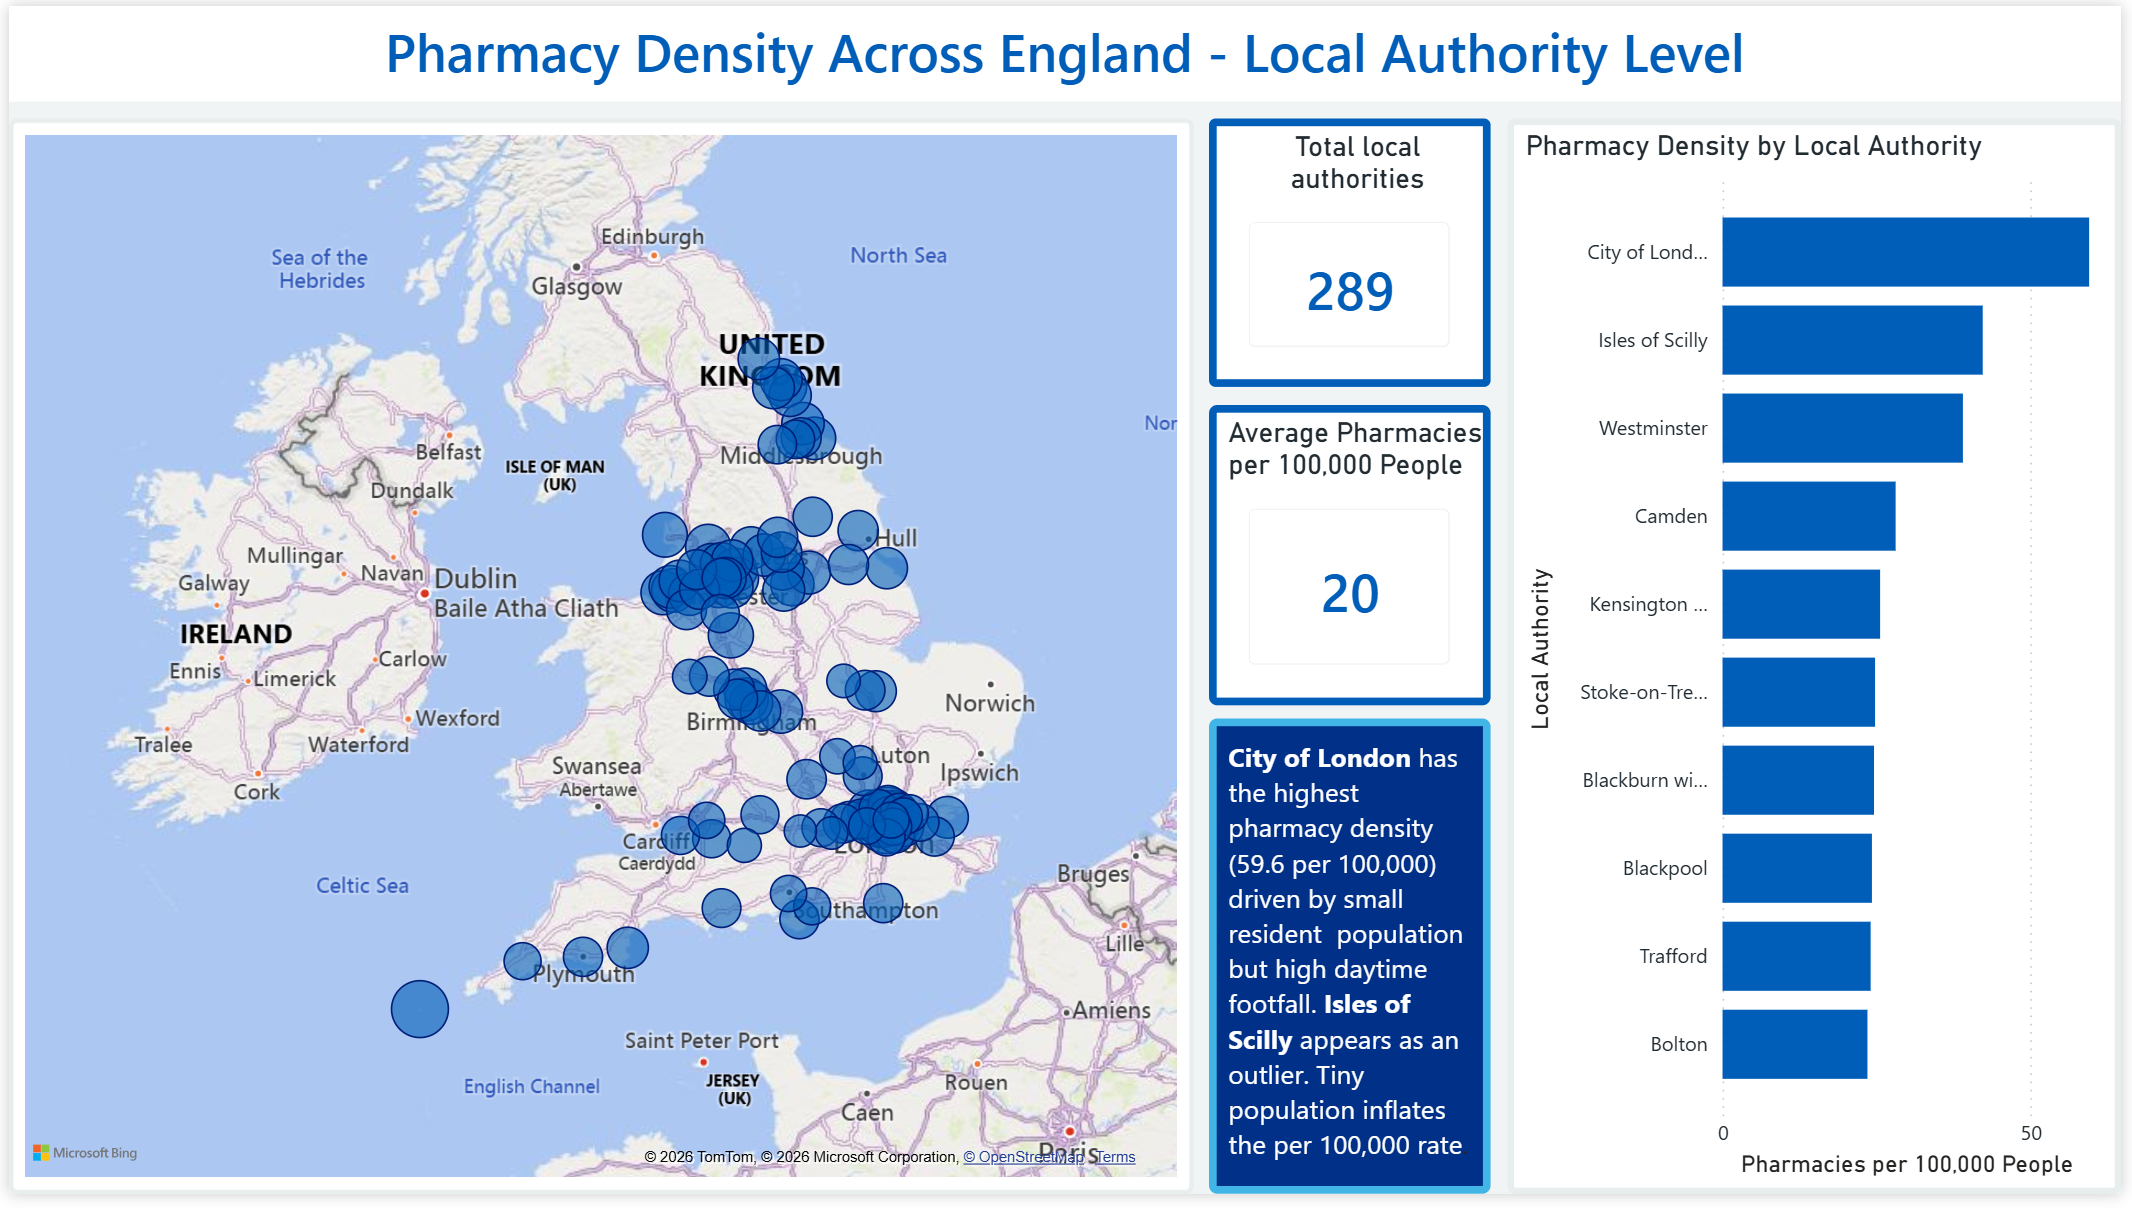

This screenshot's page, from the dashboard's own definition file:
{"tool":"powerbi","page":{"name":"Pharmacy Map","canvas":[1280,720],"ordinal":1},"visuals":[{"type":"map","fields":{"Category":["pharmacy_deprivation.lad_name"],"Size":["Avg(pharmacy_deprivation.pharmacies_per_100k)"]},"box":[0,68.2,718.2,651.8],"z":0},{"type":"clusteredBarChart","title":"Pharmacy Density by Local Authority","fields":{"Category":["pharmacy_deprivation.lad_name"],"Y":["Avg(pharmacy_deprivation.pharmacies_per_100k)"]},"box":[908.2,68.2,371.8,651.8],"z":1000},{"type":"textbox","box":[0,0,1279.7,58.3],"z":2000},{"type":"cardVisual","title":"Total local authorities","fields":{"Data":["CountNonNull(pharmacy_deprivation.lad_name)"]},"box":[727.3,68.2,170.9,162.7],"z":3000},{"type":"cardVisual","title":"Average Pharmacies per 100,000 People","fields":{"Data":["Avg(pharmacy_deprivation.pharmacies_per_100k)"]},"box":[727.3,241.8,170.9,181.8],"z":4000},{"type":"textbox","box":[727.3,431.8,170.9,288.2],"z":5000}]}

Visuals, with their boxes in screenshot pixels (x1, y1, x2, y2), scaled from the page's 1280x720 canvas onto the 2132x1208 screenshot:
map - pharmacy_deprivation.lad_name x Avg(pharmacy_deprivation.pharmacies_per_100k): 0,114,1196,1207
"Pharmacy Density by Local Authority" clusteredBarChart: 1513,114,2131,1207
textbox: 0,0,2131,98
"Total local authorities" cardVisual: 1211,114,1496,387
"Average Pharmacies per 100,000 People" cardVisual: 1211,406,1496,711
textbox: 1211,724,1496,1207
